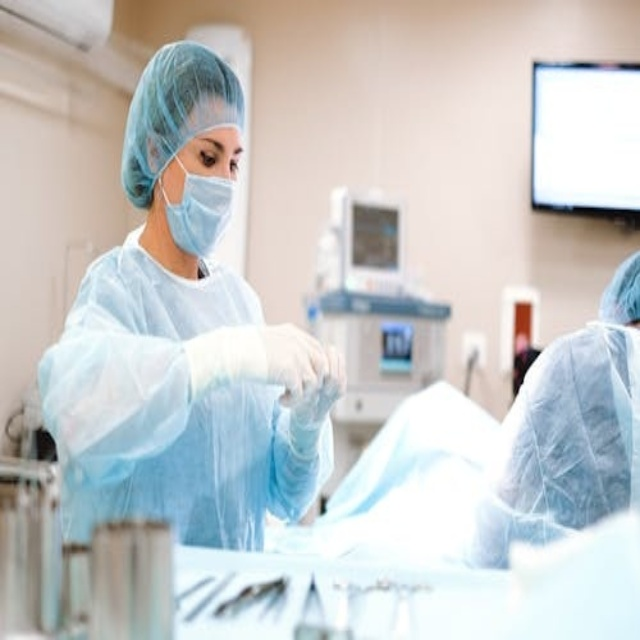Guantes: (241, 313, 349, 438)
Mascara: (159, 149, 236, 257)
Sin_gafas: (195, 135, 243, 169)
